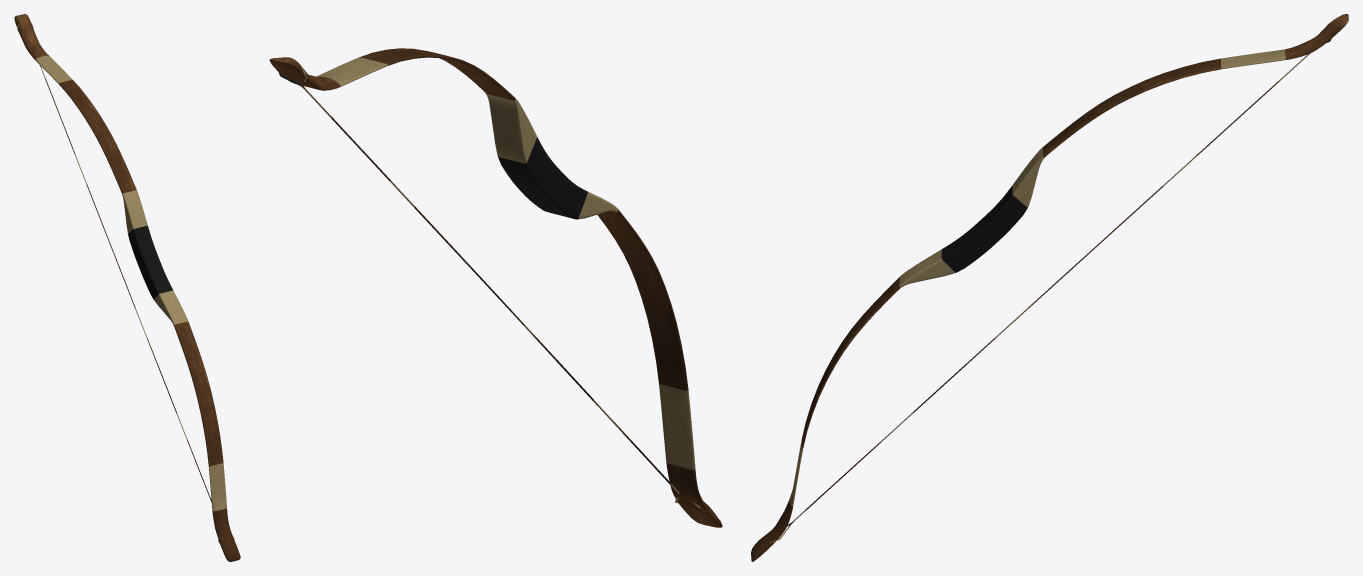
The model's file is traditional-transformed.glb.
The picture shows the model from 3 angles, left to right: view 1: azimuth 30°, elevation 25°; view 2: azimuth 150°, elevation 25°; view 3: azimuth 270°, elevation 25°; orthographic projection. The views are drawn at different scales.
Parts seen in each view (by area): view 1: traditionalBow; view 2: traditionalBow; view 3: traditionalBow.
Boxes of the visible parts, x1=… form: traditionalBow: x1=14, y1=14, x2=240, y2=561; traditionalBow: x1=269, y1=48, x2=722, y2=527; traditionalBow: x1=751, y1=14, x2=1348, y2=561.
Bounding box in the file's own units: 0.3213 × 7.95 × 7.95.
Materials: 1 (1 with a texture image).
